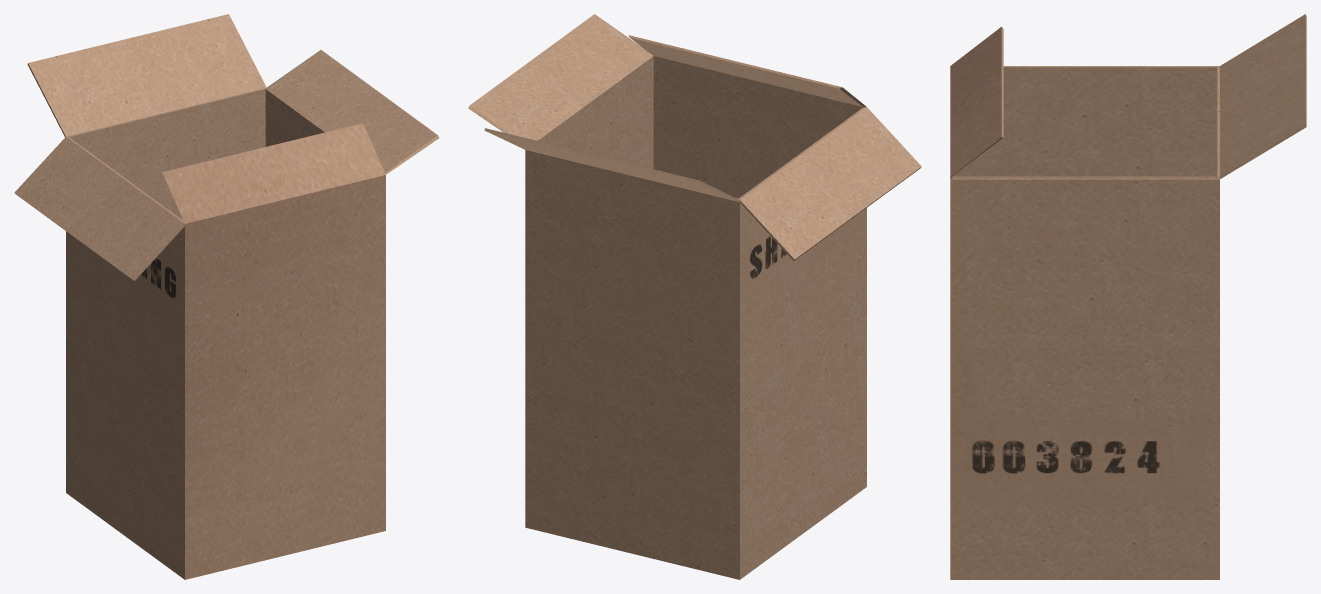
3 renders of one model, left to right at view 1: azimuth 30°, elevation 25°; view 2: azimuth 150°, elevation 25°; view 3: azimuth 270°, elevation 25°, orthographic. The views are drawn at different scales.
Visible parts, largest first — view 1: pCube4; view 2: pCube4; view 3: pCube4.
Boxes of the visible parts, left/top/right/bottom form: pCube4: left=14, top=14, right=439, bottom=579; pCube4: left=468, top=14, right=921, bottom=579; pCube4: left=950, top=14, right=1306, bottom=579.
Size of the model in its own units: 1.52 by 1.91 by 1.36.
